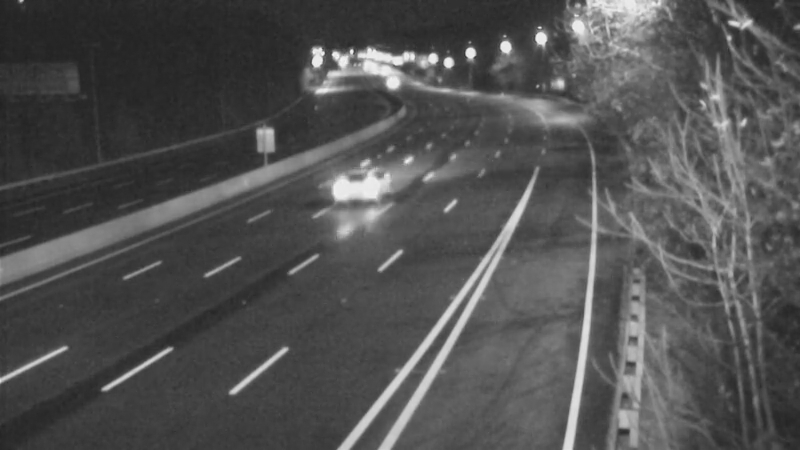vehicle: (319, 142, 399, 222), (362, 58, 412, 108)
